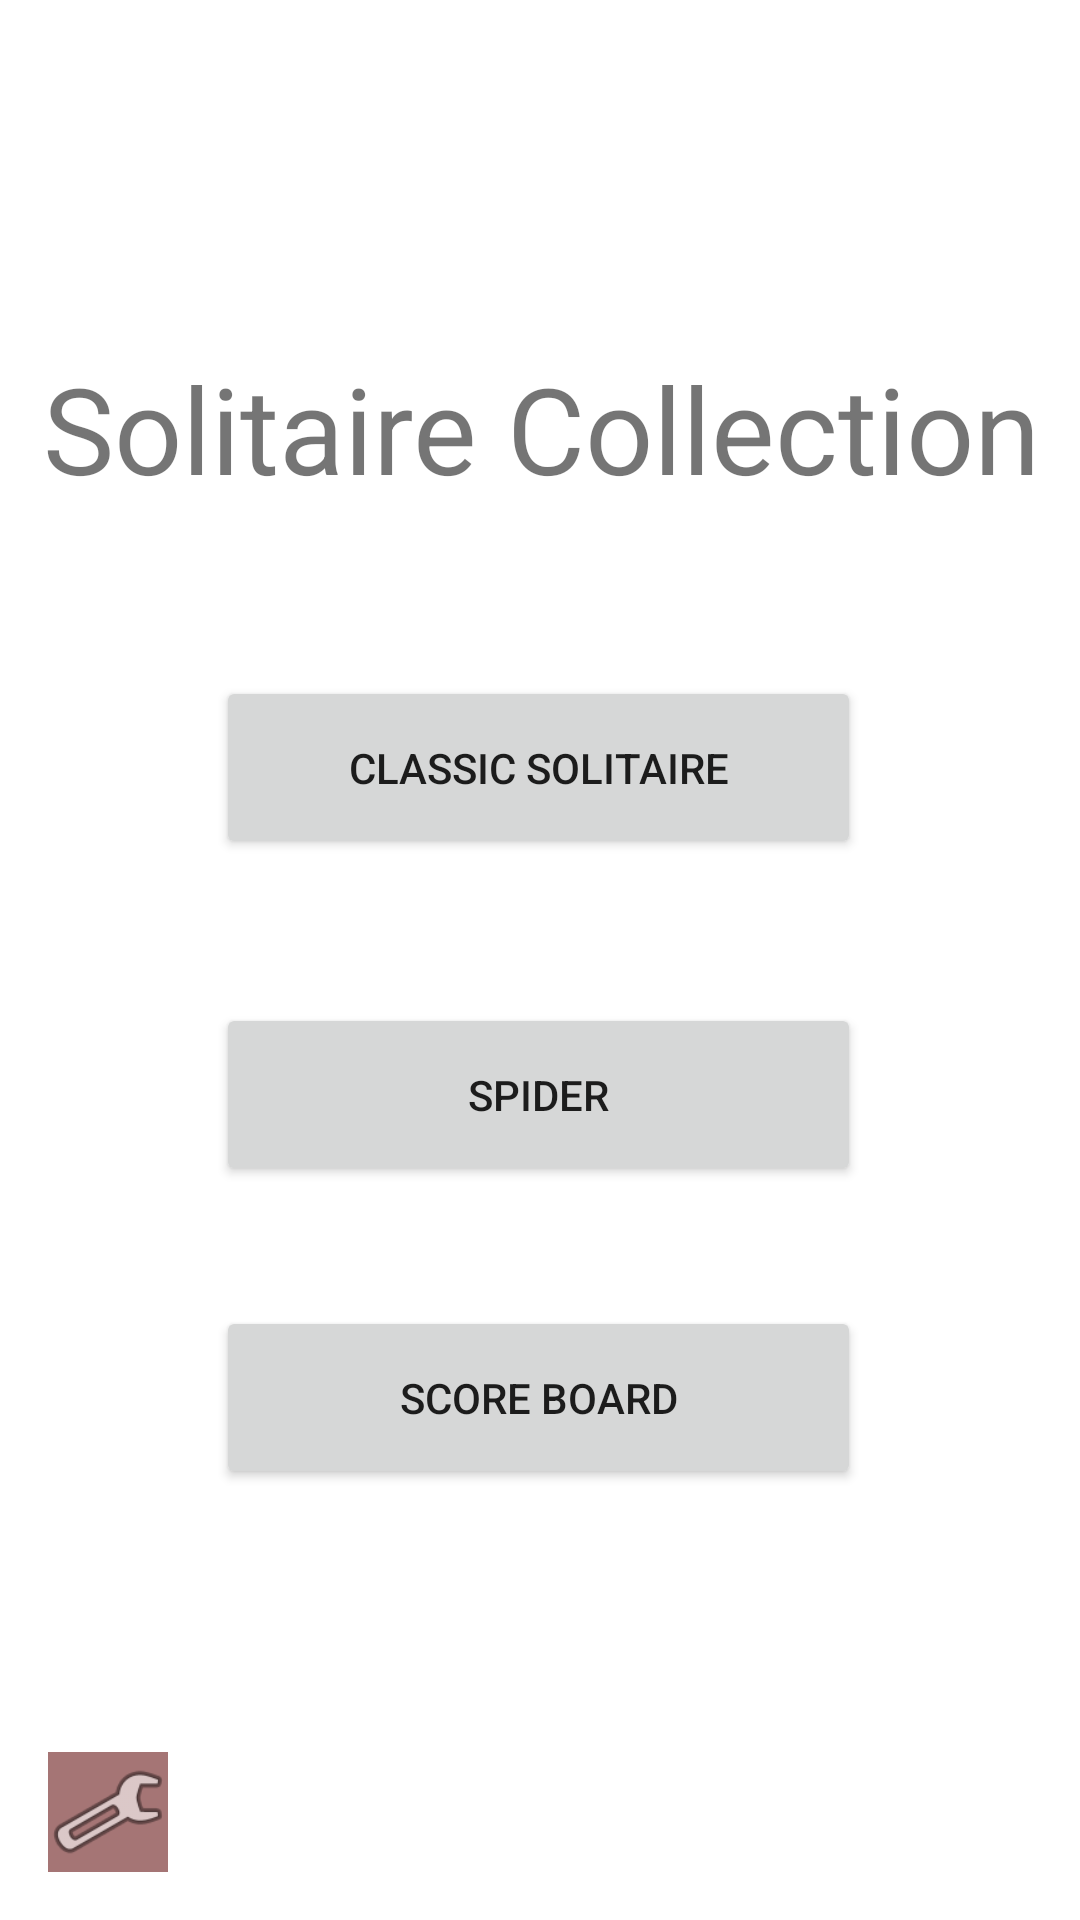

Locate icon controls on the screen. Image size 1080×1920, boxes as (x1, y1, x2, y2).
preferences: (48, 1752, 168, 1872)
